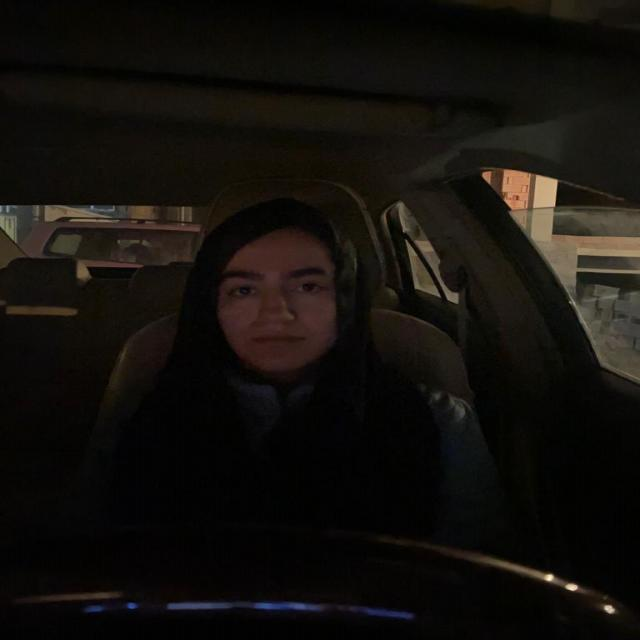person: (191, 196, 366, 381)
